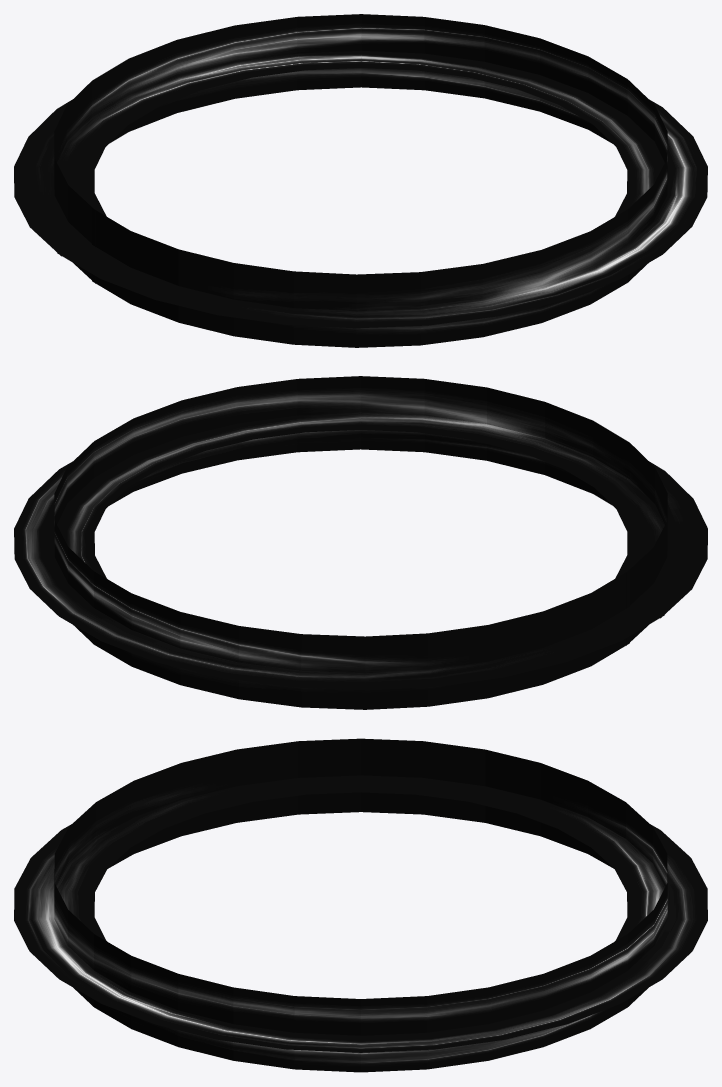
File: 0034_HT_FX_BZDaiOuQiXiSiGJX_pan.glb
3 renders of one model, top to bottom at view 1: azimuth 30°, elevation 25°; view 2: azimuth 150°, elevation 25°; view 3: azimuth 270°, elevation 25°, orthographic.
Bounding box in the file's own units: 2.2 × 0.2555 × 2.19.
1 material, 1 textured.
